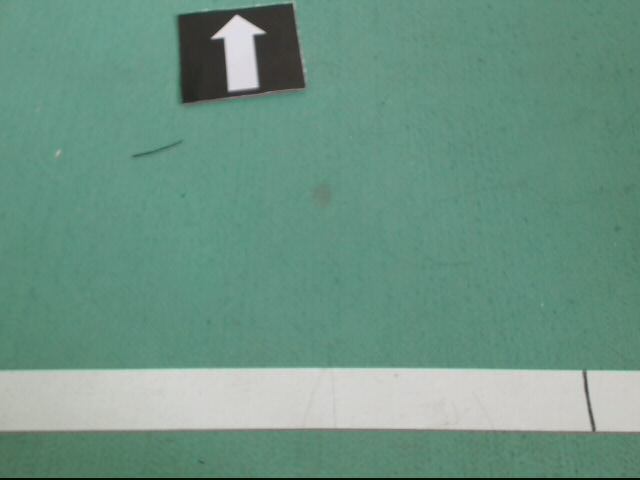straight: (178, 4, 305, 106)
